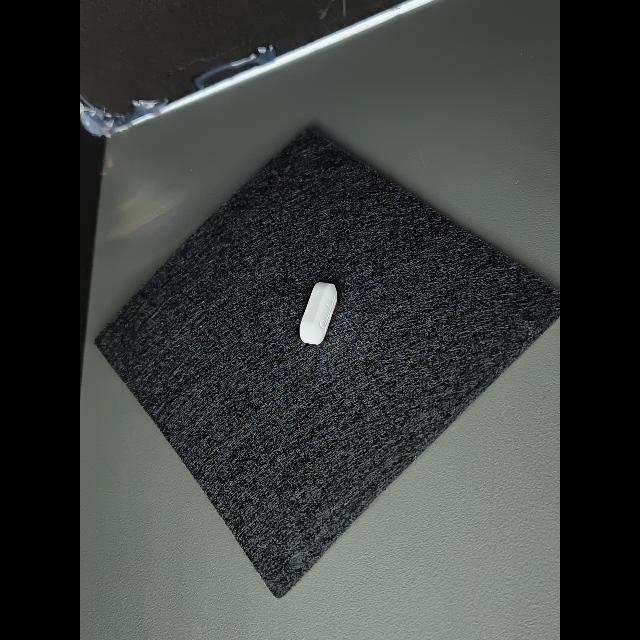Intact Pill: (300, 282, 337, 345)
